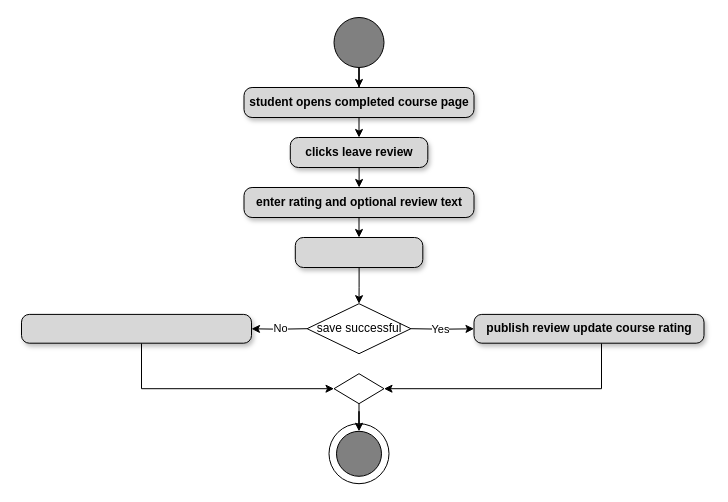
The diagram is 728 pixels wide and 502 high, and some of its shapes have lost their labels. The shapes that lost their labels are listed below. From the top down, each one's centre as x and y in pixels, then its label:
(359,253): submit review
(137,329): show error message
